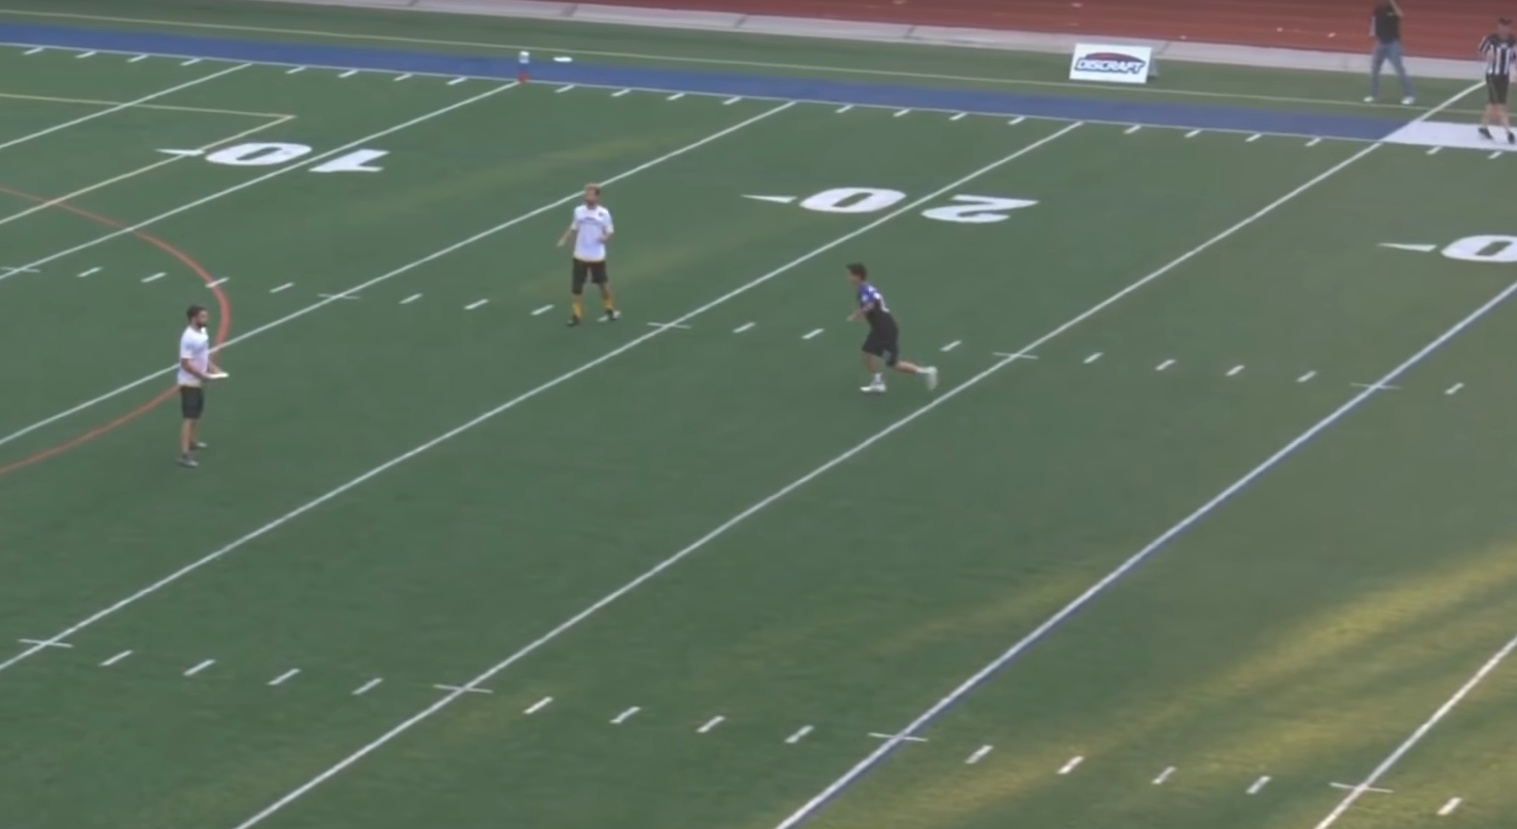frisbee: (205, 371, 230, 380)
